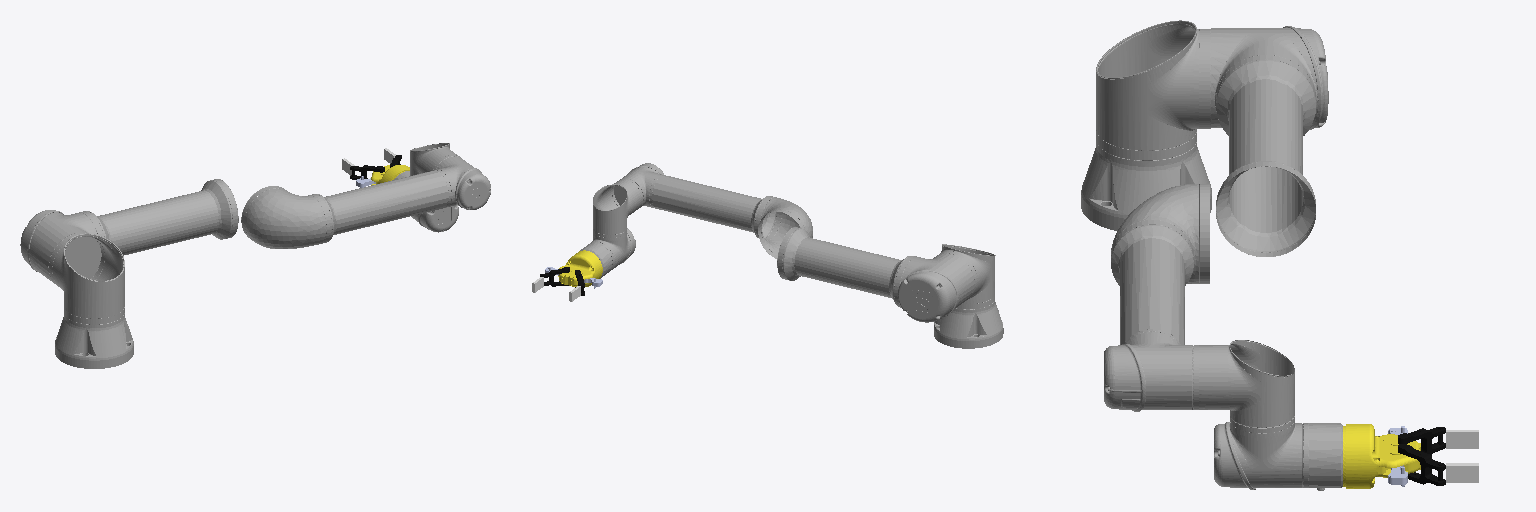
--- Facts derived from the render (not from the file) ---
3 views of the same robot in one strip: view 1: azimuth 30°, elevation 25°; view 2: azimuth 150°, elevation 25°; view 3: azimuth 270°, elevation 25° (orthographic).
Model ur5e with 23 links and 22 joints (10 revolute, 2 prismatic, 10 fixed), rooted at base_link, posed all joints at 0.
Links seen in each view (by area): view 1: forearm_link, upper_arm_link, shoulder_link, base_link, wrist_1_link, wrist_2_link; view 2: upper_arm_link, forearm_link, base_link, wrist_1_link, shoulder_link, robotiq_2f_85_base, wrist_2_link; view 3: upper_arm_link, forearm_link, shoulder_link, wrist_1_link, base_link, wrist_2_link, robotiq_2f_85_base, wrist_3_link, robotiq_2f_85_left_spring_link, robotiq_2f_85_right_spring_link, robotiq_2f_85_left_pad, robotiq_2f_85_right_pad.
Boxes of the visible links, x1,y1,x2,y2 form: forearm_link: (245, 155, 490, 248); upper_arm_link: (20, 179, 286, 283); shoulder_link: (49, 233, 124, 317); base_link: (55, 307, 133, 368); wrist_1_link: (410, 143, 459, 175); wrist_2_link: (411, 205, 458, 232); upper_arm_link: (758, 209, 974, 322); forearm_link: (612, 163, 812, 255); base_link: (934, 295, 1003, 348); wrist_1_link: (593, 180, 641, 237); shoulder_link: (937, 244, 995, 303); robotiq_2f_85_base: (558, 250, 602, 286); wrist_2_link: (590, 228, 635, 270); upper_arm_link: (1199, 26, 1328, 283); forearm_link: (1104, 184, 1198, 411); shoulder_link: (1096, 20, 1210, 149); wrist_1_link: (1199, 340, 1294, 433); base_link: (1081, 129, 1211, 230); wrist_2_link: (1214, 421, 1308, 489); robotiq_2f_85_base: (1343, 424, 1420, 488); wrist_3_link: (1309, 423, 1342, 490); robotiq_2f_85_left_spring_link: (1398, 444, 1445, 485); robotiq_2f_85_right_spring_link: (1398, 427, 1445, 455); robotiq_2f_85_left_pad: (1446, 463, 1478, 482); robotiq_2f_85_right_pad: (1446, 430, 1478, 448).
Bounding box of the posed robot: 0.9619 × 0.4586 × 0.225 m (x, y, z).
Meshes: 12 distinct files referenced, 12 mesh visuals loaded (10 OBJ); not drawn: 4 (reference not matched to a file when rendering).

The robot description file, URDF, robot "ur5e":
<?xml version="1.0" encoding="utf-8"?>
<robot name="ur5e">
  <link name="base_link">
    <visual>
      <geometry>
        <mesh filename="meshes/ur5e/visual/base.obj"/>
      </geometry>
      <material name="LightGrey">
        <color rgba="0.7 0.7 0.7 1.0"/>
      </material>
    </visual>
    <collision>
      <geometry>
        <mesh filename="meshes/ur5e/collision/base.stl"/>
      </geometry>
    </collision>
    <inertial>
      <mass value="4.0"/>
      <origin rpy="0 0 0" xyz="0.0 0.0 0.0"/>
      <inertia ixx="0.00443333156" ixy="0.0" ixz="0.0" iyy="0.00443333156" iyz="0.0" izz="0.0072"/>
    </inertial>
  </link>
  <joint name="shoulder_pan_joint" type="revolute">
    <safety_controller k_position="100.0" k_velocity="40.0" soft_lower_limit="-1.7628" soft_upper_limit="1.7628"/>
    <parent link="base_link"/>
    <child link="shoulder_link"/>
    <origin rpy="0.0 0.0 0.0" xyz="0.0 0.0 0.163"/>
    <axis xyz="0 0 1"/>
    <limit effort="150.0" lower="-6.28318530718" upper="6.28318530718" velocity="3.14"/>
    <dynamics damping="0.0" friction="0.0"/>
  </joint>
  <link name="shoulder_link">
    <visual>
      <geometry>
        <mesh filename="meshes/ur5e/visual/shoulder.obj"/>
      </geometry>
      <material name="LightGrey">
        <color rgba="0.7 0.7 0.7 1.0"/>
      </material>
    </visual>
    <collision>
      <geometry>
        <mesh filename="meshes/ur5e/collision/shoulder.stl"/>
      </geometry>
    </collision>
    <inertial>
      <mass value="3.7"/>
      <origin rpy="0 0 0" xyz="0.0 0.0 0.0"/>
      <inertia ixx="0.010267495893" ixy="0.0" ixz="0.0" iyy="0.010267495893" iyz="0.0" izz="0.00666"/>
    </inertial>
  </link>
  <joint name="shoulder_lift_joint" type="revolute">
    <safety_controller k_position="100.0" k_velocity="40.0" soft_lower_limit="-1.7628" soft_upper_limit="1.7628"/>
    <parent link="shoulder_link"/>
    <child link="upper_arm_link"/>
    <origin rpy="0.0 1.57079632679 0.0" xyz="0.0 0.138 0.0"/>
    <axis xyz="0 1 0"/>
    <limit effort="150.0" lower="-6.28318530718" upper="6.28318530718" velocity="3.14"/>
    <dynamics damping="0.0" friction="0.0"/>
  </joint>
  <link name="upper_arm_link">
    <visual>
      <geometry>
        <mesh filename="meshes/ur5e/visual/upperarm.obj"/>
      </geometry>
      <material name="LightGrey">
        <color rgba="0.7 0.7 0.7 1.0"/>
      </material>
    </visual>
    <collision>
      <geometry>
        <mesh filename="meshes/ur5e/collision/upperarm.stl"/>
      </geometry>
    </collision>
    <inertial>
      <mass value="8.393"/>
      <origin rpy="0 0 0" xyz="0.0 0.0 0.2125"/>
      <inertia ixx="0.133885781862" ixy="0.0" ixz="0.0" iyy="0.133885781862" iyz="0.0" izz="0.0151074"/>
    </inertial>
  </link>
  <joint name="elbow_joint" type="revolute">
    <safety_controller k_position="100.0" k_velocity="40.0" soft_lower_limit="-1.7628" soft_upper_limit="1.7628"/>
    <parent link="upper_arm_link"/>
    <child link="forearm_link"/>
    <origin rpy="0.0 0.0 0.0" xyz="0.0 -0.131 0.425"/>
    <axis xyz="0 1 0"/>
    <limit effort="150.0" lower="-3.14159265359" upper="3.14159265359" velocity="3.14"/>
    <dynamics damping="0.0" friction="0.0"/>
  </joint>
  <link name="forearm_link">
    <visual>
      <geometry>
        <mesh filename="meshes/ur5e/visual/forearm.obj"/>
      </geometry>
      <material name="LightGrey">
        <color rgba="0.7 0.7 0.7 1.0"/>
      </material>
    </visual>
    <collision>
      <geometry>
        <mesh filename="meshes/ur5e/collision/forearm.stl"/>
      </geometry>
    </collision>
    <inertial>
      <mass value="2.275"/>
      <origin rpy="0 0 0" xyz="0.0 0.0 0.196"/>
      <inertia ixx="0.0311796208615" ixy="0.0" ixz="0.0" iyy="0.0311796208615" iyz="0.0" izz="0.004095"/>
    </inertial>
  </link>
  <joint name="wrist_1_joint" type="revolute">
    <safety_controller k_position="100.0" k_velocity="40.0" soft_lower_limit="-1.7628" soft_upper_limit="1.7628"/>
    <parent link="forearm_link"/>
    <child link="wrist_1_link"/>
    <origin rpy="0.0 1.57079632679 0.0" xyz="0.0 0.0 0.392"/>
    <axis xyz="0 1 0"/>
    <limit effort="28.0" lower="-6.28318530718" upper="6.28318530718" velocity="6.28"/>
    <dynamics damping="0.0" friction="0.0"/>
  </joint>
  <link name="wrist_1_link">
    <visual>
      <geometry>
        <mesh filename="meshes/ur5e/visual/wrist1.obj"/>
      </geometry>
      <material name="LightGrey">
        <color rgba="0.7 0.7 0.7 1.0"/>
      </material>
    </visual>
    <collision>
      <geometry>
        <mesh filename="meshes/ur5e/collision/wrist1.stl"/>
      </geometry>
    </collision>
    <inertial>
      <mass value="1.219"/>
      <origin rpy="0 0 0" xyz="0.0 0.127 0.0"/>
      <inertia ixx="0.00255989897604" ixy="0.0" ixz="0.0" iyy="0.00255989897604" iyz="0.0" izz="0.0021942"/>
    </inertial>
  </link>
  <joint name="wrist_2_joint" type="revolute">
    <safety_controller k_position="100.0" k_velocity="40.0" soft_lower_limit="-1.7628" soft_upper_limit="1.7628"/>
    <parent link="wrist_1_link"/>
    <child link="wrist_2_link"/>
    <origin rpy="0.0 0.0 0.0" xyz="0.0 0.127 0.0"/>
    <axis xyz="0 0 1"/>
    <limit effort="28.0" lower="-6.28318530718" upper="6.28318530718" velocity="6.28"/>
    <dynamics damping="0.0" friction="0.0"/>
  </joint>
  <link name="wrist_2_link">
    <visual>
      <geometry>
        <mesh filename="meshes/ur5e/visual/wrist2.obj"/>
      </geometry>
      <material name="LightGrey">
        <color rgba="0.7 0.7 0.7 1.0"/>
      </material>
    </visual>
    <collision>
      <geometry>
        <mesh filename="meshes/ur5e/collision/wrist2.stl"/>
      </geometry>
    </collision>
    <inertial>
      <mass value="1.219"/>
      <origin rpy="0 0 0" xyz="0.0 0.0 0.1"/>
      <inertia ixx="0.00255989897604" ixy="0.0" ixz="0.0" iyy="0.00255989897604" iyz="0.0" izz="0.0021942"/>
    </inertial>
  </link>
  <joint name="wrist_3_joint" type="revolute">
    <parent link="wrist_2_link"/>
    <child link="wrist_3_link"/>
    <origin rpy="0.0 0.0 0.0" xyz="0.0 0.0 0.1"/>
    <axis xyz="0 1 0"/>
    <limit effort="28.0" lower="-6.28318530718" upper="6.28318530718" velocity="6.28"/>
    <dynamics damping="0.0" friction="0.0"/>
  </joint>
  <link name="wrist_3_link">
    <visual>
      <geometry>
        <mesh filename="meshes/ur5e/visual/wrist3.obj"/>
      </geometry>
      <material name="LightGrey">
        <color rgba="0.7 0.7 0.7 1.0"/>
      </material>
    </visual>
    <collision>
      <geometry>
        <mesh filename="meshes/ur5e/collision/wrist3.stl"/>
      </geometry>
    </collision>
    <inertial>
      <mass value="0.1879"/>
      <origin rpy="1.57079632679 0 0" xyz="0.0 0.0771 0.0"/>
      <inertia ixx="9.89041005217e-05" ixy="0.0" ixz="0.0" iyy="9.89041005217e-05" iyz="0.0" izz="0.0001321171875"/>
    </inertial>
  </link>
  <joint name="ee_fixed_joint" type="fixed">
    <parent link="wrist_3_link"/>
    <child link="ee_link"/>
    <origin rpy="0.0 0.0 1.57079632679" xyz="0.0 0.1 0.0"/>
  </joint>
  <link name="ee_link">
    <collision>
      <geometry>
        <box size="0.01 0.01 0.01"/>
      </geometry>
      <origin rpy="0 0 0" xyz="-0.01 0 0"/>
    </collision>
  </link>
    <link name="grasptarget">
   <inertial>
        <origin rpy="0 0 0" xyz="0 0 0"/>
         <mass value="0.0"/>
         <inertia ixx="0.1" ixy="0" ixz="0" iyy="0.1" iyz="0" izz="0.1"/>
      </inertial>
     </link>
     <joint name="grasptarget_hand" type="fixed">
      <parent link="wrist_3_link"/>
      <child link="grasptarget"/>
      <origin rpy="1.57 0 0" xyz="0 0.25 0.0"/>
    </joint>
  <!-- ROS base_link to UR 'Base' Coordinates transform -->
<!--  <link name="base"/>-->
<!--  <joint name="base_link-base_fixed_joint" type="fixed">-->
<!--    &lt;!&ndash; NOTE: this rotation is only needed as long as base_link itself is-->
<!--                 not corrected wrt the real robot (ie: rotated over 180-->
<!--                 degrees)-->
<!--      &ndash;&gt;-->
<!--    <origin rpy="0 0 -3.14159265359" xyz="0 0 0"/>-->
<!--    <parent link="base_link"/>-->
<!--    <child link="base"/>-->
<!--  </joint>-->
  <!-- Frame coincident with all-zeros TCP on UR controller -->
  <link name="tool0"/>
  <joint name="wrist_3_link-tool0_fixed_joint" type="fixed">
    <origin rpy="-1.57079632679 -1.57079 0" xyz="0 0.1 0"/>
    <parent link="wrist_3_link"/>
    <child link="tool0"/>
  </joint>

  <!-- begin robotiq -->
  <joint name="tool_joint" type="fixed">
    <origin rpy="0.0 0.0 0.0" xyz="0.0 0.0 0.00"/>
    <parent link="tool0"/>
    <child link="robotiq_arg2f_base_link"/>
  </joint>
  <link name="robotiq_ur_coupler">
    <inertial>
      <mass value="0.3"/>
      <origin xyz="0 0 0.00695"/>
      <inertia ixx="0.110299" ixy="0" ixz="0" iyy="0.110299" iyz="0" izz="0.2109375"/>
    </inertial>
  </link>
  <joint name="coupler_joint" type="fixed">
    <origin rpy="0.0 0.0 0.0" xyz="0.0 0.0 -0.0075"/>
    <parent link="tool0"/>
    <child link="robotiq_ur_coupler"/>
  </joint>
  <joint name="robotiq_ur_coupler_robotiq_2f_85_base_joint" type="fixed">
    <origin rpy="0 0 0" xyz="0 0 0"/>
    <parent link="robotiq_ur_coupler"/>
    <child link="robotiq_2f_85_base"/>
  </joint>
  <link name="robotiq_2f_85_base">
    <inertial>
      <mass value="0.01"/>
      <origin xyz="0 0 0.0075"/>
      <inertia ixx="0.00020005" ixy="-4.2442E-10" ixz="-2.9069E-10" iyy="0.00017832" iyz="-3.4402E-08"
               izz="0.00013478"/>
    </inertial>
    <visual>
      <origin rpy="0 -1.5708 0" xyz="0 0 0"/>
      <geometry>
        <mesh filename="robotiq_2f_85_gripper_visualization/meshes/visual/base.obj"/>
      </geometry>
    </visual>
    <collision>
      <origin rpy="0 0 0" xyz="0 0 0.015"/>
      <geometry>
        <cylinder length="0.045" radius="0.04"/>
      </geometry>
    </collision>
    <collision>
      <origin rpy="0 0 0" xyz="0 0 0.06"/>
      <geometry>
        <box size="0.03 0.03 0.06"/>
      </geometry>
    </collision>
  </link>

  <link name="robotiq_arg2f_base_link">
    <inertial>
      <origin rpy="0 0 0" xyz="8.625E-08 -4.6583E-06 0.03145"/>
      <mass value="0.22652"/>
      <inertia ixx="0.00020005" ixy="-4.2442E-10" ixz="-2.9069E-10" iyy="0.00017832" iyz="-3.4402E-08"
               izz="0.00013478"/>
    </inertial>
  </link>
  <link name="robotiq_2f_85_left_driver">
    <inertial>
      <origin xyz="-0.000200000000003065 0.0199435877845359 0.0292245259211331" rpy="0 0 0"/>
      <mass value="0.00853198276973456"/>
      <inertia ixx="2.89328108496468E-06" ixy="-1.57935047237397E-19" ixz="-1.93980378593255E-19"
               iyy="1.86719750325683E-06" iyz="-1.21858577871576E-06" izz="1.21905238907251E-06"/>
    </inertial>
    <visual>
      <origin rpy="0 0 0" xyz="0 0 0"/>
      <geometry>
        <mesh
            filename="robotiq_2f_85_gripper_visualization/legacy/meshes/visual/robotiq_arg2f_85_outer_knuckle.obj"
            scale="0.001 0.001 0.001"/>
      </geometry>
      <material name="">
        <color rgba="0.792156862745098 0.819607843137255 0.933333333333333 1"/>
      </material>
    </visual>
    <collision>
      <origin rpy="0 0 0" xyz="0 0 0"/>
      <geometry>
        <mesh
            filename="robotiq_2f_85_gripper_visualization/legacy/meshes/collision/robotiq_arg2f_85_outer_knuckle.obj"
            scale="0.001 0.001 0.001"/>
      </geometry>
    </collision>
  </link>
  <link name="robotiq_2f_85_left_coupler">
    <!--<inertial>
        <origin xyz="0.00030115855001899 0.0373907951953854 -0.0208027427000385" rpy="0 0 0" />
        <mass value="0.022614240507152" />
        <inertia ixx="1.52518312458174E-05" ixy="9.76583423954399E-10" ixz="-5.43838577022588E-10" iyy="6.17694243867776E-06" iyz="6.78636130740228E-06" izz="1.16494917907219E-05" />
        </inertial> -->
    <visual>
      <origin rpy="0 0 0" xyz="0 0 0"/>
      <geometry>
        <mesh
            filename="robotiq_2f_85_gripper_visualization/legacy/meshes/visual/robotiq_arg2f_85_outer_finger.obj"
            scale="0.001 0.001 0.001"/>
      </geometry>
      <material name="">
        <color rgba="0.1 0.1 0.1 1"/>
      </material>
    </visual>
    <collision>
      <origin rpy="0 0 0" xyz="0 0 0"/>
      <geometry>
        <mesh
            filename="robotiq_2f_85_gripper_visualization/legacy/meshes/collision/robotiq_arg2f_85_outer_finger.obj"
            scale="0.001 0.001 0.001"/>
      </geometry>
    </collision>
  </link>
  <link name="robotiq_2f_85_left_follower">
    <!--<inertial>
        <origin xyz="0.000299999999999317 0.0160078233491243 -0.0136945669206257" rpy="0 0 0" />
        <mass value="0.0104003125914103" />
        <inertia ixx="2.71909453810972E-06" ixy="1.35402465472579E-21" ixz="-7.1817349065269E-22" iyy="7.69100314106116E-07" iyz="6.74715432769696E-07" izz="2.30315190420171E-06" />
        </inertial> -->
    <visual>
      <origin rpy="0 0 0" xyz="0 0 0"/>
      <geometry>
        <mesh
            filename="robotiq_2f_85_gripper_visualization/legacy/meshes/visual/robotiq_arg2f_85_inner_finger.obj"
            scale="0.001 0.001 0.001"/>
      </geometry>
      <material name="">
        <color rgba="0.1 0.1 0.1 1"/>
      </material>
    </visual>
    <collision>
      <origin rpy="0 0 0" xyz="0 0 0"/>
      <geometry>
        <mesh
            filename="robotiq_2f_85_gripper_visualization/legacy/meshes/collision/robotiq_arg2f_85_inner_finger.obj"
            scale="0.001 0.001 0.001"/>
      </geometry>
    </collision>
  </link>
  <link name="robotiq_2f_85_left_pad">
    <visual>
      <origin rpy="0 0 0" xyz="0 0 0"/>
      <geometry>
        <box size="0.022 0.00635 0.0375"/>
      </geometry>
      <material name="">
        <color rgba="0.9 0.9 0.9 1"/>
      </material>
    </visual>
    <collision>
      <origin rpy="0 0 0" xyz="0 0 0"/>
      <geometry>
        <box size="0.022 0.00635 0.0375"/>
      </geometry>
      <material name="">
        <color rgba="0.9 0.0 0.0 1"/>
      </material>
    </collision>
  </link>
  <link name="robotiq_2f_85_left_spring_link">
    <!--<inertial>
        <origin xyz="0.000123011831763771 0.0507850843201817 0.00103968640075166" rpy="0 0 0" />
       <mass value="0.0271177346495152" />
        <inertia ixx="2.61910379223783E-05" ixy="-2.43616858946494E-07" ixz="-6.37789906117123E-09" iyy="2.8270243746167E-06" iyz="-5.37200748039765E-07" izz="2.83695868220296E-05" />
        </inertial> -->
    <visual>
      <origin rpy="0 0 0" xyz="0 0 0"/>
      <geometry>
        <mesh
            filename="robotiq_2f_85_gripper_visualization/legacy/meshes/visual/robotiq_arg2f_85_inner_knuckle.obj"
            scale="0.001 0.001 0.001"/>
      </geometry>
      <material name="">
        <color rgba="0.1 0.1 0.1 1"/>
      </material>
    </visual>
    <collision>
      <origin rpy="0 0 0" xyz="0 0 0"/>
      <geometry>
        <mesh
            filename="robotiq_2f_85_gripper_visualization/legacy/meshes/collision/robotiq_arg2f_85_inner_knuckle.obj"
            scale="0.001 0.001 0.001"/>
      </geometry>
    </collision>
  </link>
  <link name="robotiq_2f_85_right_driver">
    <!--<inertial>
        <origin xyz="-0.000200000000003065 0.0199435877845359 0.0292245259211331" rpy="0 0 0" />
        <mass value="0.00853198276973456" />
        <inertia ixx="2.89328108496468E-06" ixy="-1.57935047237397E-19" ixz="-1.93980378593255E-19" iyy="1.86719750325683E-06" iyz="-1.21858577871576E-06" izz="1.21905238907251E-06" />
        </inertial> -->
    <visual>
      <origin rpy="0 0 0" xyz="0 0 0"/>
      <geometry>
        <mesh
            filename="robotiq_2f_85_gripper_visualization/legacy/meshes/visual/robotiq_arg2f_85_outer_knuckle.obj"
            scale="0.001 0.001 0.001"/>
      </geometry>
      <material name="">
        <color rgba="0.792156862745098 0.819607843137255 0.933333333333333 1"/>
      </material>
    </visual>
    <collision>
      <origin rpy="0 0 0" xyz="0 0 0"/>
      <geometry>
        <mesh
            filename="robotiq_2f_85_gripper_visualization/legacy/meshes/collision/robotiq_arg2f_85_outer_knuckle.obj"
            scale="0.001 0.001 0.001"/>
      </geometry>
    </collision>
  </link>
  <link name="robotiq_2f_85_right_coupler">
    <!--<inertial>
        <origin xyz="0.00030115855001899 0.0373907951953854 -0.0208027427000385" rpy="0 0 0" />
        <mass value="0.022614240507152" />
        <inertia ixx="1.52518312458174E-05" ixy="9.76583423954399E-10" ixz="-5.43838577022588E-10" iyy="6.17694243867776E-06" iyz="6.78636130740228E-06" izz="1.16494917907219E-05" />
        </inertial> -->
    <visual>
      <origin rpy="0 0 0" xyz="0 0 0"/>
      <geometry>
        <mesh
            filename="robotiq_2f_85_gripper_visualization/legacy/meshes/visual/robotiq_arg2f_85_outer_finger.obj"
            scale="0.001 0.001 0.001"/>
      </geometry>
      <material name="">
        <color rgba="0.1 0.1 0.1 1"/>
      </material>
    </visual>
    <collision>
      <origin rpy="0 0 0" xyz="0 0 0"/>
      <geometry>
        <mesh
            filename="robotiq_2f_85_gripper_visualization/legacy/meshes/collision/robotiq_arg2f_85_outer_finger.obj"
            scale="0.001 0.001 0.001"/>
      </geometry>
    </collision>
  </link>
  <link name="robotiq_2f_85_right_follower">
    <!--<inertial>
        <origin xyz="0.000299999999999317 0.0160078233491243 -0.0136945669206257" rpy="0 0 0" />
        <mass value="0.0104003125914103" />
        <inertia ixx="2.71909453810972E-06" ixy="1.35402465472579E-21" ixz="-7.1817349065269E-22" iyy="7.69100314106116E-07" iyz="6.74715432769696E-07" izz="2.30315190420171E-06" />
        </inertial> -->
    <visual>
      <origin rpy="0 0 0" xyz="0 0 0"/>
      <geometry>
        <mesh
            filename="robotiq_2f_85_gripper_visualization/legacy/meshes/visual/robotiq_arg2f_85_inner_finger.obj"
            scale="0.001 0.001 0.001"/>
      </geometry>
      <material name="">
        <color rgba="0.1 0.1 0.1 1"/>
      </material>
    </visual>
    <collision>
      <origin rpy="0 0 0" xyz="0 0 0"/>
      <geometry>
        <mesh
            filename="robotiq_2f_85_gripper_visualization/legacy/meshes/collision/robotiq_arg2f_85_inner_finger.obj"
            scale="0.001 0.001 0.001"/>
      </geometry>
    </collision>
  </link>
  <link name="robotiq_2f_85_right_pad">
    <visual>
      <origin rpy="0 0 0" xyz="0 0 0"/>
      <geometry>
        <box size="0.022 0.00635 0.0375"/>
      </geometry>
      <material name="">
        <color rgba="0.9 0.9 0.9 1"/>
      </material>
    </visual>
    <collision>
      <origin rpy="0 0 0" xyz="0 0 0"/>
      <geometry>
        <box size="0.022 0.00635 0.0375"/>
      </geometry>
      <material name="">
        <color rgba="0.9 0.0 0.0 1"/>
      </material>
    </collision>
  </link>
  <link name="robotiq_2f_85_right_spring_link">
    <!--<inertial>
        <origin xyz="0.000123011831763771 0.0507850843201817 0.00103968640075166" rpy="0 0 0" />
       <mass value="0.0271177346495152" />
        <inertia ixx="2.61910379223783E-05" ixy="-2.43616858946494E-07" ixz="-6.37789906117123E-09" iyy="2.8270243746167E-06" iyz="-5.37200748039765E-07" izz="2.83695868220296E-05" />
        </inertial> -->
    <visual>
      <origin rpy="0 0 0" xyz="0 0 0"/>
      <geometry>
        <mesh
            filename="robotiq_2f_85_gripper_visualization/legacy/meshes/visual/robotiq_arg2f_85_inner_knuckle.obj"
            scale="0.001 0.001 0.001"/>
      </geometry>
      <material name="">
        <color rgba="0.1 0.1 0.1 1"/>
      </material>
    </visual>
    <collision>
      <origin rpy="0 0 0" xyz="0 0 0"/>
      <geometry>
        <mesh
            filename="robotiq_2f_85_gripper_visualization/legacy/meshes/collision/robotiq_arg2f_85_inner_knuckle.obj"
            scale="0.001 0.001 0.001"/>
      </geometry>
    </collision>
  </link>
  <joint name="robotiq_2f_85_left_driver_mimic_joint" type="revolute">
    <origin rpy="0 0 3.14159265359" xyz="0 -0.0306011 0.054904"/>
    <parent link="robotiq_arg2f_base_link"/>
    <child link="robotiq_2f_85_left_driver"/>
    <axis xyz="1 0 0"/>
    <limit effort="1000" lower="0" upper="0.8" velocity="2.0"/>
  </joint>
  <joint name="robotiq_2f_85_left_coupler_joint" type="fixed">
    <origin rpy="0 0 0" xyz="0 0.0315 -0.0041"/>
    <parent link="robotiq_2f_85_left_driver"/>
    <child link="robotiq_2f_85_left_coupler"/>
    <axis xyz="1 0 0"/>
  </joint>
  <joint name="robotiq_2f_85_left_spring_link_joint" type="revolute">
    <!-- <origin xyz="0 ${reflect * -0.0127} 0.06142" rpy="${pi / 2 + .725} 0 ${(reflect - 1) * pi / 2}" /> -->
    <origin rpy="0 0 3.14159265359" xyz="0 -0.0127 0.06142"/>
    <parent link="robotiq_arg2f_base_link"/>
    <child link="robotiq_2f_85_left_spring_link"/>
    <axis xyz="1 0 0"/>
    <limit effort="1000" lower="0" upper="0.8" velocity="2.0"/>
    <mimic joint="robotiq_2f_85_left_driver_joint" multiplier="1" offset="0"/>
  </joint>
  <!--  <joint name="robotiq_2f_85_left_follower_joint" type="revolute">-->
  <!--    <origin rpy="0 0 0" xyz="0 0.0061 0.0471"/>-->
  <!--    <parent link="robotiq_2f_85_left_coupler"/>-->
  <!--    <child link="robotiq_2f_85_left_follower"/>-->
  <!--    <axis xyz="1 0 0"/>-->
  <!--    <limit effort="1000" lower="-0.8" upper="0" velocity="2.0"/>-->
  <!--    <mimic joint="robotiq_2f_85_left_driver_joint" multiplier="-1" offset="0"/>-->
  <!--  </joint>-->

  <joint name="robotiq_2f_85_left_driver_joint" type="prismatic">
    <origin rpy="0 0 3.14" xyz="3.35276e-08 -0.0461303 0.137834"/>
    <parent link="robotiq_2f_85_base"/>
    <child link="robotiq_2f_85_left_pad"/>
    <axis xyz="8.31983143e-08 -9.52063817e-01 3.05899474e-01"/>
    <limit effort="1000" lower="0" upper="0.0448" velocity="2.0"/>
  </joint>
  <joint name="robotiq_2f_85_left_pad_joint" type="fixed">
    <origin rpy="0 0 0" xyz="0 0.0220203446692936 -0.03242"/>
    <child link="robotiq_2f_85_left_follower"/>
    <parent link="robotiq_2f_85_left_pad"/>
    <axis xyz="0 0 1"/>
  </joint>

  <joint name="robotiq_2f_85_right_driver_mimic_joint" type="revolute">
    <origin rpy="0 0 0" xyz="0 0.0306011 0.054904"/>
    <parent link="robotiq_arg2f_base_link"/>
    <child link="robotiq_2f_85_right_driver"/>
    <axis xyz="1 0 0"/>
    <limit effort="1000" lower="0" upper="0.8" velocity="2.0"/>
    <mimic joint="robotiq_2f_85_left_driver_joint" multiplier="1" offset="0"/>
  </joint>
  <joint name="robotiq_2f_85_right_coupler_joint" type="fixed">
    <origin rpy="0 0 0" xyz="0 0.0315 -0.0041"/>
    <parent link="robotiq_2f_85_right_driver"/>
    <child link="robotiq_2f_85_right_coupler"/>
    <axis xyz="1 0 0"/>
  </joint>
  <joint name="robotiq_2f_85_right_spring_link_joint" type="revolute">
    <!-- <origin xyz="0 ${reflect * -0.0127} 0.06142" rpy="${pi / 2 + .725} 0 ${(reflect - 1) * pi / 2}" /> -->
    <origin rpy="0 0 0.0" xyz="0 0.0127 0.06142"/>
    <parent link="robotiq_arg2f_base_link"/>
    <child link="robotiq_2f_85_right_spring_link"/>
    <axis xyz="1 0 0"/>
    <limit effort="1000" lower="0" upper="0.8" velocity="2.0"/>
    <mimic joint="robotiq_2f_85_left_driver_joint" multiplier="1" offset="0"/>
  </joint>
  <!--  <joint name="robotiq_2f_85_right_follower_joint" type="revolute">-->
  <!--    <origin rpy="0 0 0" xyz="0 0.0061 0.0471"/>-->
  <!--    <parent link="robotiq_2f_85_right_coupler"/>-->
  <!--    <child link="robotiq_2f_85_right_follower"/>-->
  <!--    <axis xyz="1 0 0"/>-->
  <!--    <limit effort="1000" lower="-0.8" upper="0" velocity="2.0"/>-->
  <!--    <mimic joint="robotiq_2f_85_left_driver_joint" multiplier="-1" offset="0"/>-->
  <!--  </joint>-->

  <joint name="robotiq_2f_85_right_driver_joint" type="prismatic">
    <origin rpy="0 0 0" xyz="3.35276e-08 0.0461303 0.137834"/>
    <parent link="robotiq_2f_85_base"/>
    <child link="robotiq_2f_85_right_pad"/>
    <axis xyz="8.31388445e-08 -9.52019331e-01 3.06037896e-01"/>
    <limit effort="1000" lower="0" upper="0.0448" velocity="2.0"/>
  </joint>
  <joint name="robotiq_2f_85_right_pad_joint" type="fixed">
    <origin rpy="0 0 0" xyz="0 0.0220203446692936 -0.03242"/>
    <child link="robotiq_2f_85_right_follower"/>
    <parent link="robotiq_2f_85_right_pad"/>
    <axis xyz="0 0 1"/>
  </joint>

</robot>
